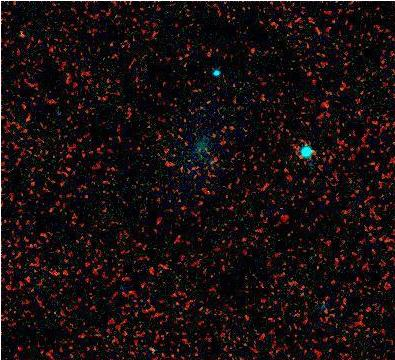star: (5, 17, 35, 47)
